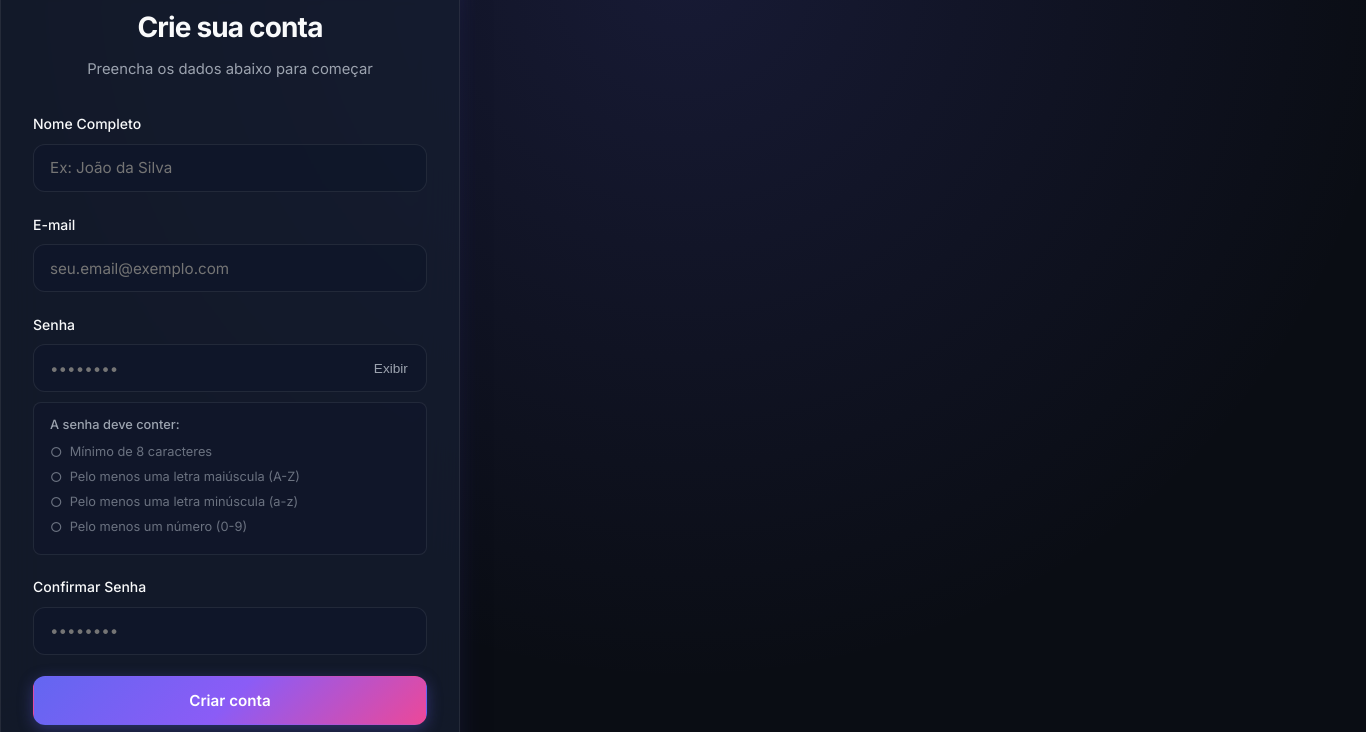
Test case: RegisterForm Unit Tests › valida campos obrigatórios quando o formulário é enviado vazio
The width and height of the screenshot is (1366, 732).
Step 1. Click the button with test id "submit-register-button" → (230, 700), box x1=33 y1=676 x2=427 y2=725
(page scrolled)
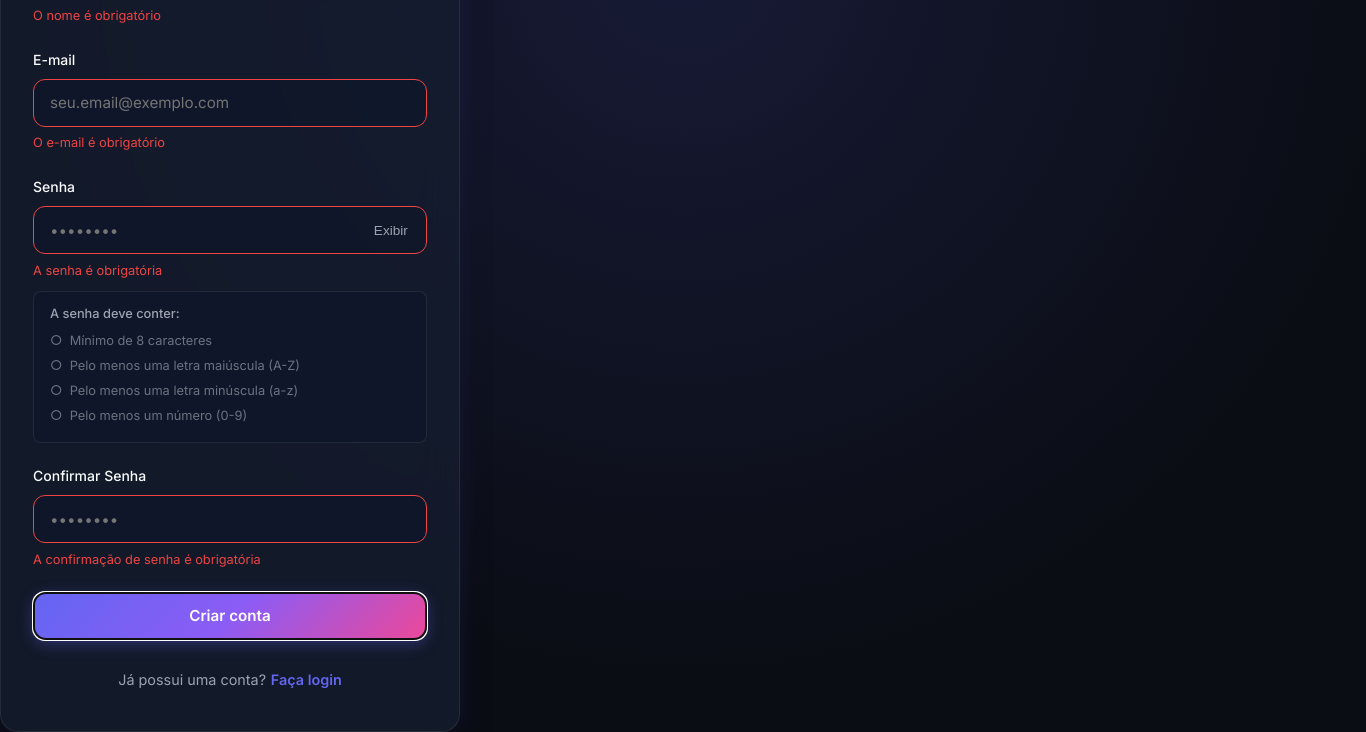
Expected: the text with test id "name-error" reads "O nome é obrigatório", x1=33 y1=8 x2=161 y2=23
Expected: the text with test id "email-error" reads "O e-mail é obrigatório", x1=33 y1=136 x2=165 y2=150
Expected: the text with test id "password-error" reads "A senha é obrigatória", x1=33 y1=262 x2=162 y2=278
